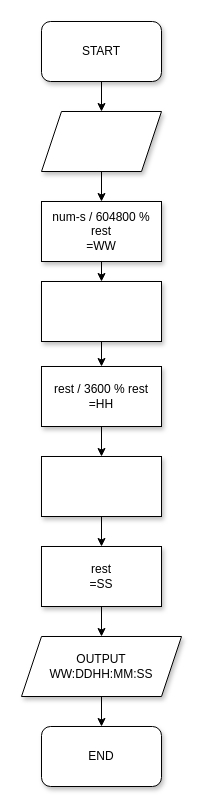
Image size: 205x811. Some labels were removed from this diagram. Each missing label, with the centre of its shape:
INPUT num-s: the point at 102,142
rest / 60 % rest =MM: the point at 102,488
rest / 86400 % rest =DD: the point at 102,312
